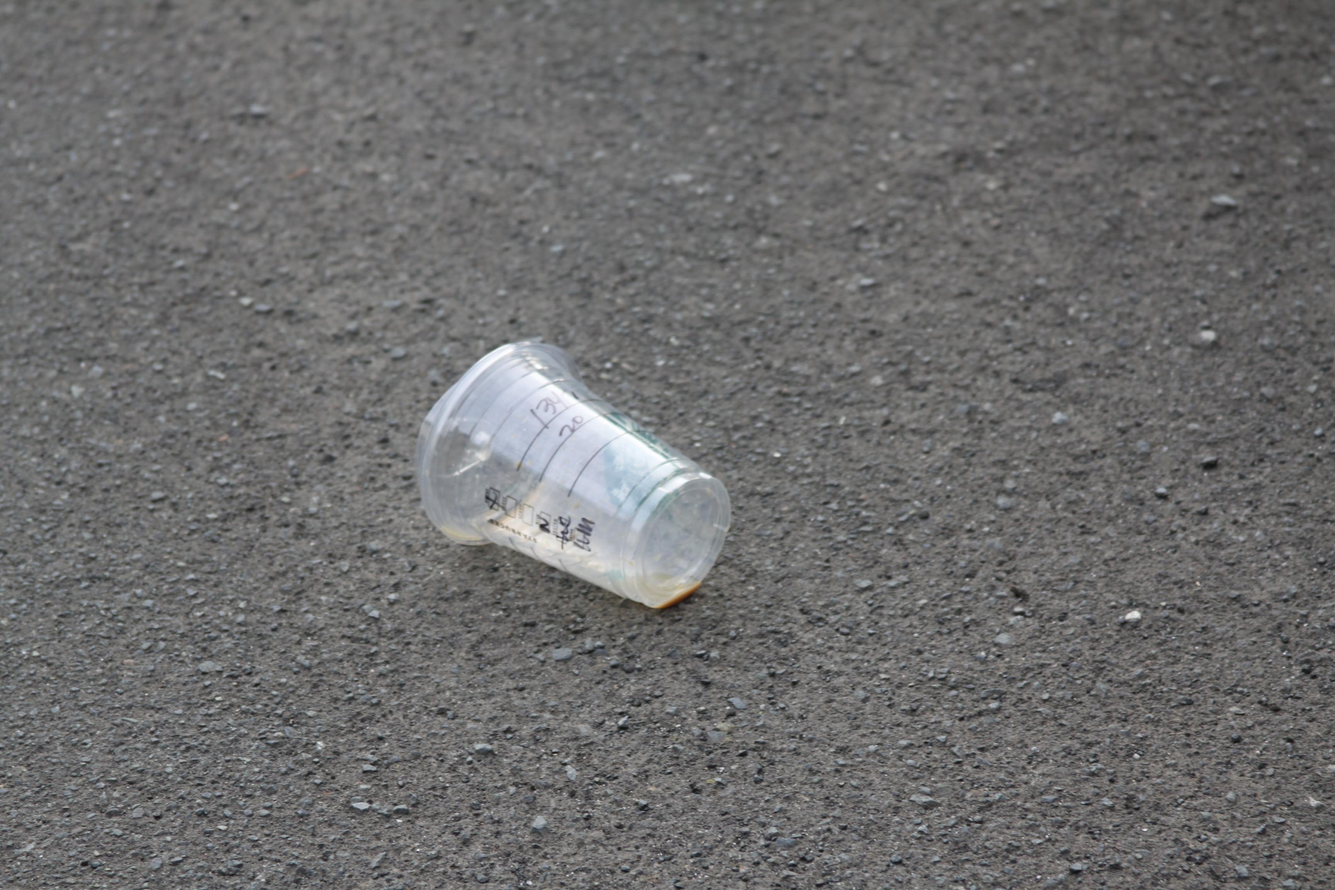Plastic: (411, 336, 734, 614)
